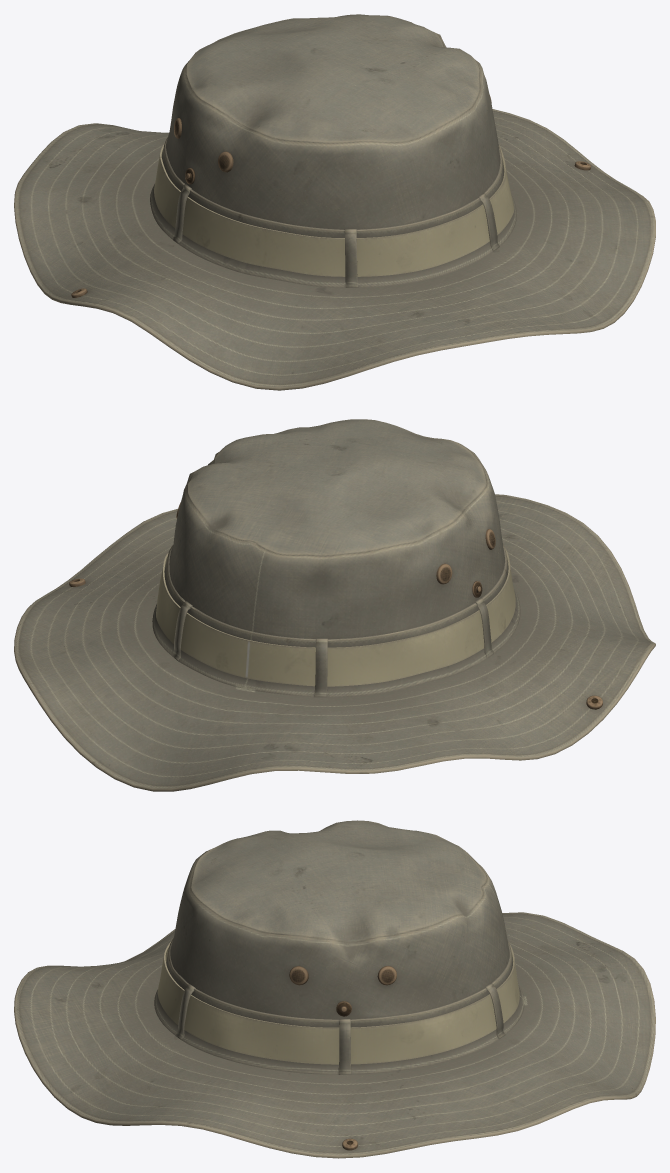
The model's file is fishermans_hat.gltf.
The picture shows the model from 3 angles, top to bottom: view 1: azimuth 30°, elevation 25°; view 2: azimuth 150°, elevation 25°; view 3: azimuth 270°, elevation 25°; orthographic projection. The views are drawn at different scales.
Parts seen in each view (by area): view 1: fishermans_hat; view 2: fishermans_hat; view 3: fishermans_hat.
Boxes of the visible parts, bbox=[...] form: fishermans_hat: bbox=[14, 14, 655, 390]; fishermans_hat: bbox=[14, 419, 655, 791]; fishermans_hat: bbox=[14, 820, 655, 1158].
Bounding box in the file's own units: 0.3236 × 0.1239 × 0.35.
1 material, 1 textured.
